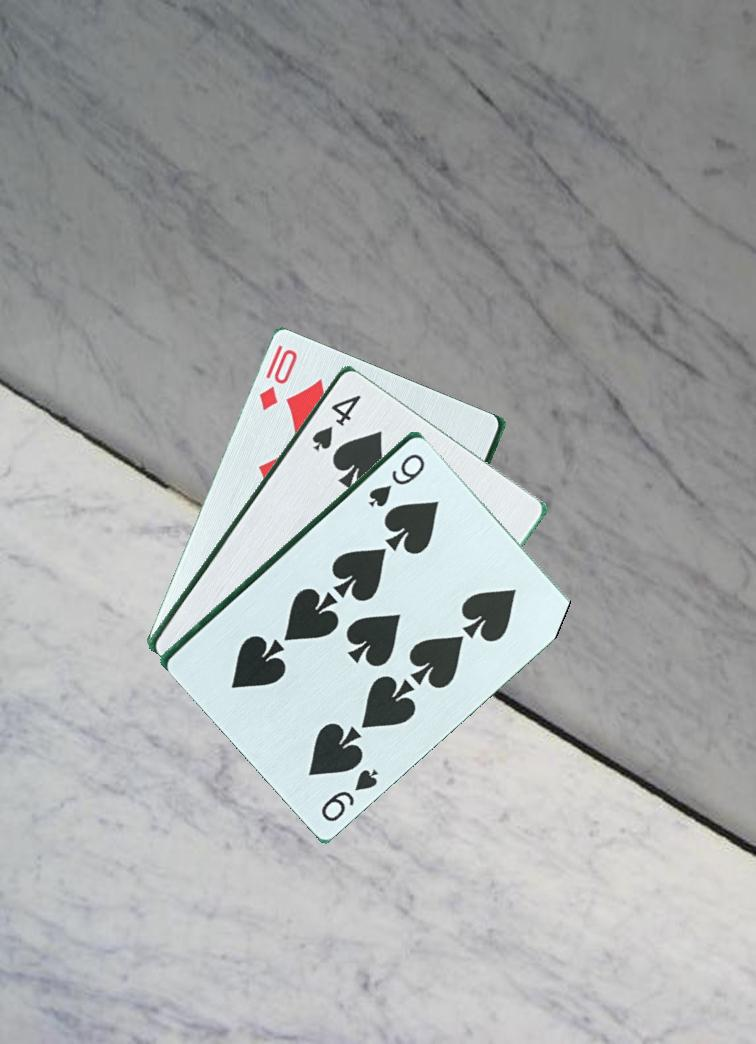4s: (308, 390, 364, 454)
9s: (364, 449, 428, 510), (317, 765, 381, 824)
td: (254, 344, 300, 413)
